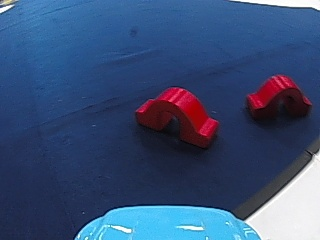bridge: (132, 81, 225, 149), (244, 70, 310, 123)
